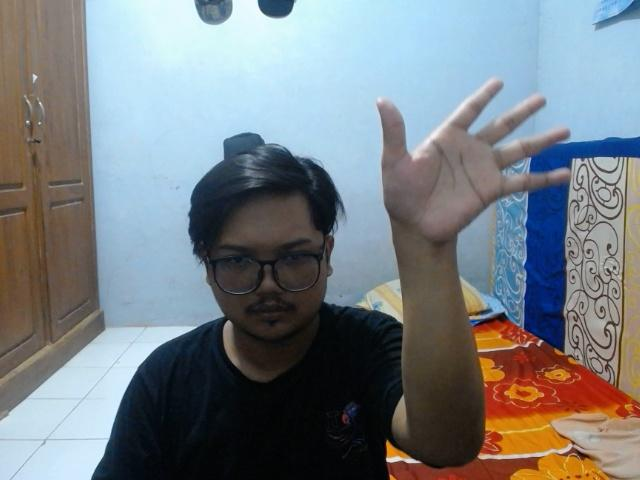Release: (368, 72, 570, 246)
